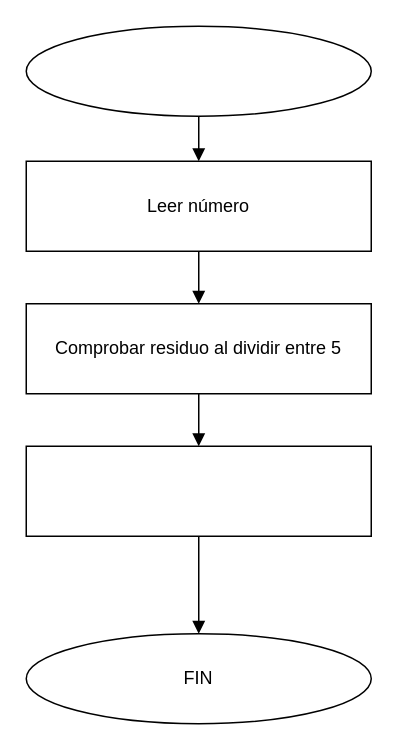
Some shapes in this 398 by 750 pixel diagram are drawn without their labels. The box of each missing label's shape, as (x1, y1, x2, y2) in pixels:
INICIO · Ejercicio 24: (25, 25, 371, 116)
Mostrar resultado: (25, 445, 371, 536)
